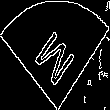M_SW: (30, 20, 80, 90)
